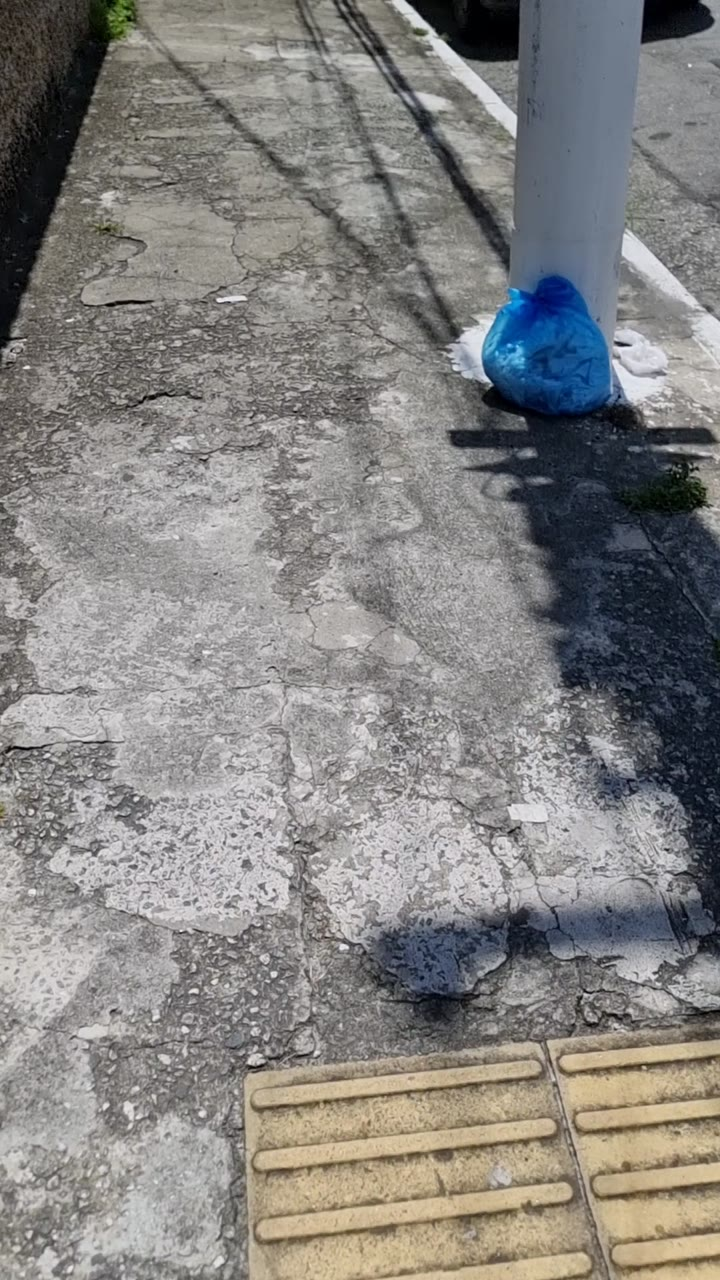obstaculo: (481, 0, 664, 416), (482, 276, 612, 416)
